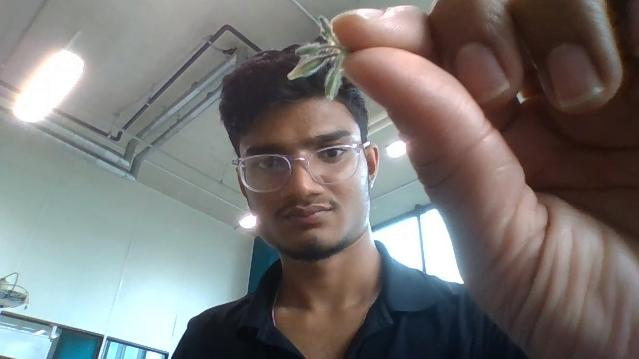Flower Bud: (287, 51, 334, 80), (325, 55, 348, 102), (293, 43, 326, 59)
